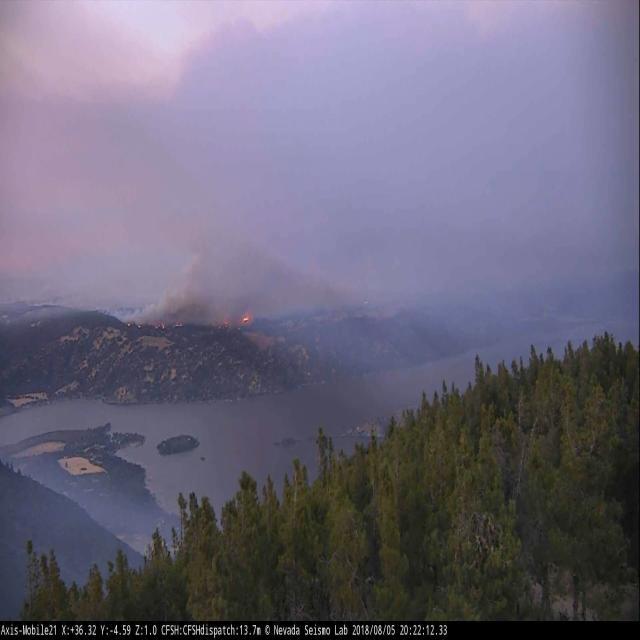smoke: (6, 263, 342, 343)
